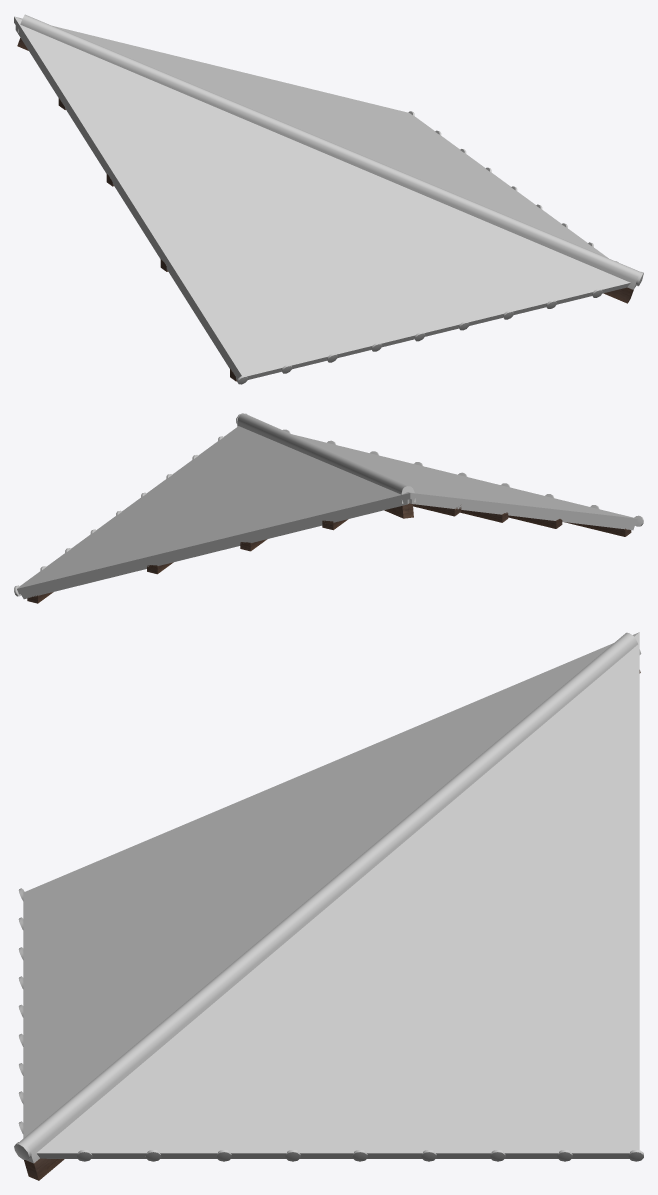
File: kawara_2x4t_a1corner_vex.fbx
3 renders of one model, top to bottom at view 1: azimuth 30°, elevation 25°; view 2: azimuth 150°, elevation 25°; view 3: azimuth 270°, elevation 25°, orthographic. The views are drawn at different scales.
Parts seen in each view (by area): view 1: kawara_2x4t_a1corner_vex; view 2: kawara_2x4t_a1corner_vex; view 3: kawara_2x4t_a1corner_vex.
Part boxes in pixels (left/top/right/bottom): kawara_2x4t_a1corner_vex: left=14, top=14, right=643, bottom=384; kawara_2x4t_a1corner_vex: left=14, top=413, right=643, bottom=603; kawara_2x4t_a1corner_vex: left=14, top=632, right=643, bottom=1180.
Bounding box in the file's own units: 504 × 258 × 501.
